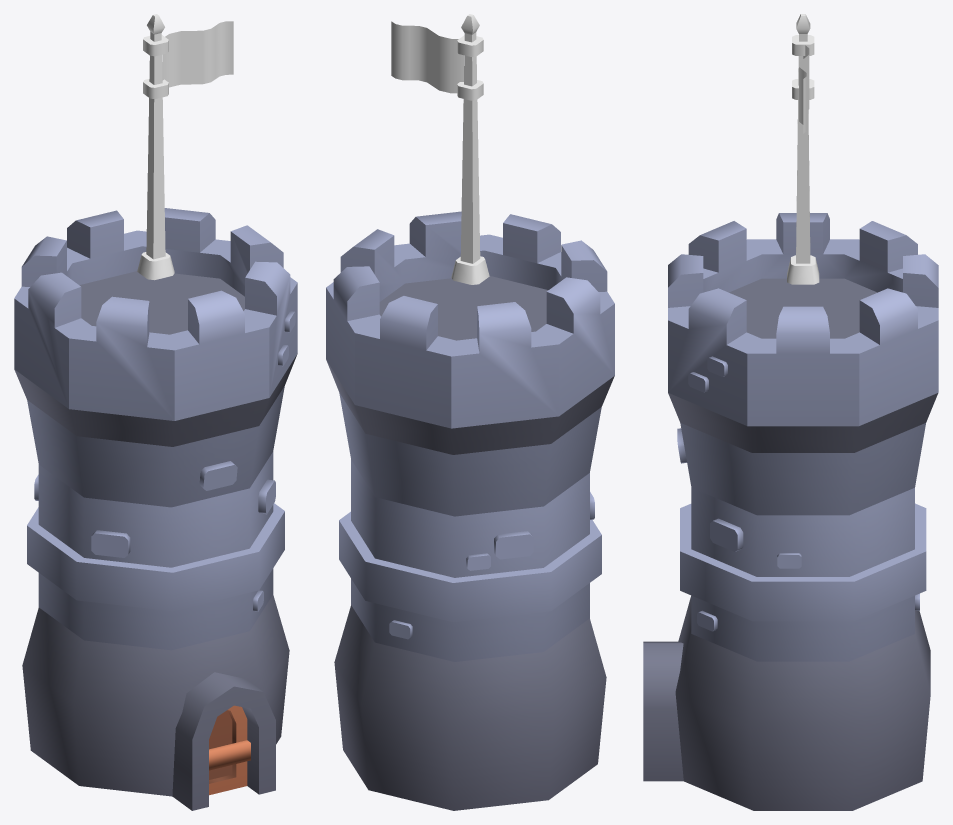
File: tower.glb
The picture shows the model from 3 angles, left to right: view 1: azimuth 30°, elevation 25°; view 2: azimuth 150°, elevation 25°; view 3: azimuth 270°, elevation 25°; orthographic projection. The views are drawn at different scales.
Parts seen in each view (by area): view 1: tower-complete-small, flag-high; view 2: tower-complete-small, flag-high; view 3: tower-complete-small, flag-high.
Part boxes in pixels (x1=…): tower-complete-small: x1=14, y1=208, x2=297, y2=810; flag-high: x1=137, y1=14, x2=233, y2=280; tower-complete-small: x1=326, y1=211, x2=614, y2=810; flag-high: x1=391, y1=14, x2=489, y2=284; tower-complete-small: x1=643, y1=213, x2=938, y2=810; flag-high: x1=787, y1=14, x2=819, y2=284.
Bounding box in the file's own units: 1 × 3.04 × 1.09.
2 materials, 1 textured.
